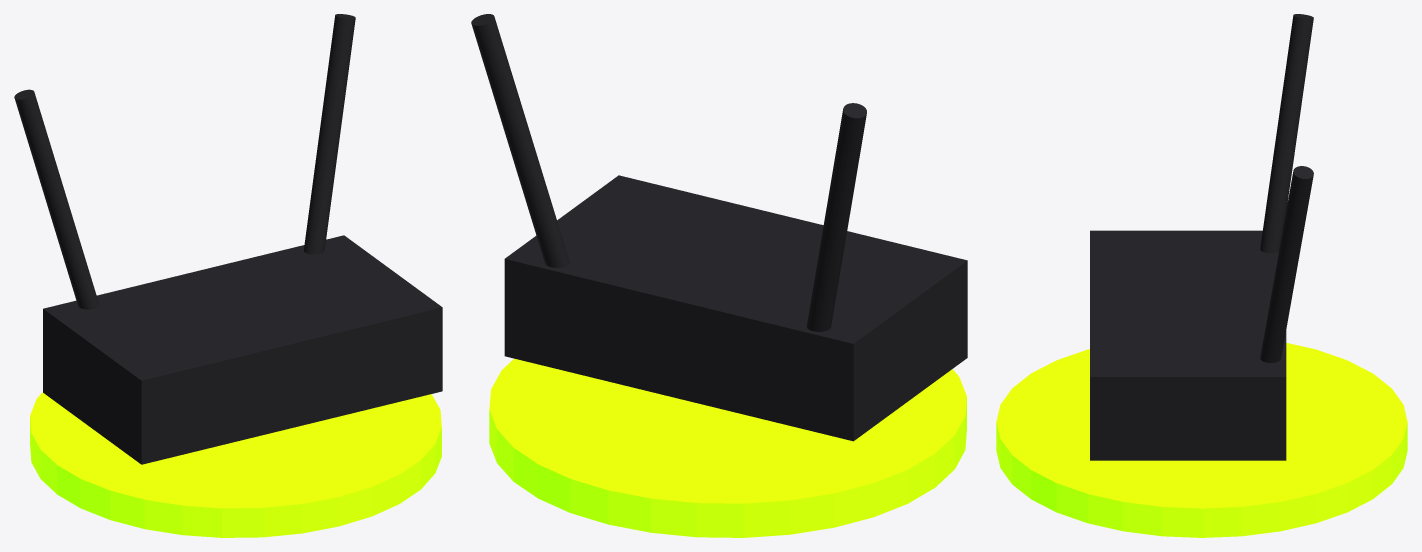
Rendered from tech_router.glb.
The picture shows the model from 3 angles, left to right: view 1: azimuth 30°, elevation 25°; view 2: azimuth 150°, elevation 25°; view 3: azimuth 270°, elevation 25°; orthographic projection. The views are drawn at different scales.
Visible parts, largest first — view 1: 08_18_Popular_Tech_Router_part_01, 08_18_Popular_Tech_Router_ROOT_base, 08_18_Popular_Tech_Router_part_03, 08_18_Popular_Tech_Router_part_02; view 2: 08_18_Popular_Tech_Router_part_01, 08_18_Popular_Tech_Router_ROOT_base, 08_18_Popular_Tech_Router_part_03, 08_18_Popular_Tech_Router_part_02; view 3: 08_18_Popular_Tech_Router_ROOT_base, 08_18_Popular_Tech_Router_part_01, 08_18_Popular_Tech_Router_part_02, 08_18_Popular_Tech_Router_part_03.
Part boxes in pixels (left/top/right/bottom): 08_18_Popular_Tech_Router_part_01: left=43, top=235, right=442, bottom=464; 08_18_Popular_Tech_Router_ROOT_base: left=30, top=392, right=441, bottom=537; 08_18_Popular_Tech_Router_part_03: left=303, top=14, right=355, bottom=254; 08_18_Popular_Tech_Router_part_02: left=14, top=89, right=99, bottom=309; 08_18_Popular_Tech_Router_part_01: left=504, top=175, right=967, bottom=441; 08_18_Popular_Tech_Router_ROOT_base: left=489, top=358, right=966, bottom=537; 08_18_Popular_Tech_Router_part_03: left=471, top=14, right=569, bottom=267; 08_18_Popular_Tech_Router_part_02: left=806, top=103, right=866, bottom=331; 08_18_Popular_Tech_Router_ROOT_base: left=996, top=343, right=1407, bottom=537; 08_18_Popular_Tech_Router_part_01: left=1090, top=230, right=1286, bottom=460; 08_18_Popular_Tech_Router_part_02: left=1260, top=14, right=1313, bottom=253; 08_18_Popular_Tech_Router_part_03: left=1260, top=166, right=1313, bottom=362.
Bounding box in the file's own units: 0.76 × 0.7325 × 0.76.
